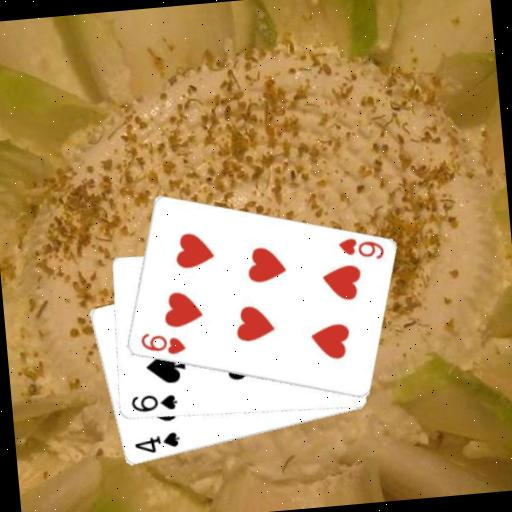4S: (130, 429, 182, 457)
6H: (334, 232, 386, 265), (136, 326, 187, 359)
6S: (128, 390, 180, 415)
